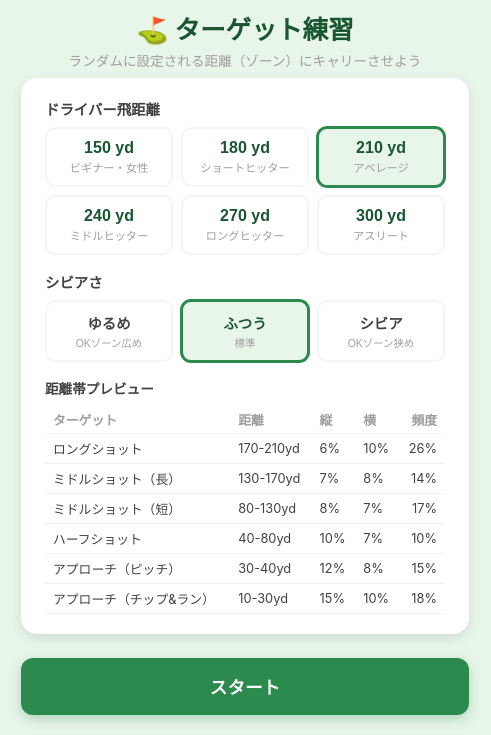
Test: App › スタートボタンを押すとターゲットカードが表示される
This screenshot has width=491, height=735.
Click the button with test id "next-button" at x=245, y=686, box [21, 658, 469, 715]
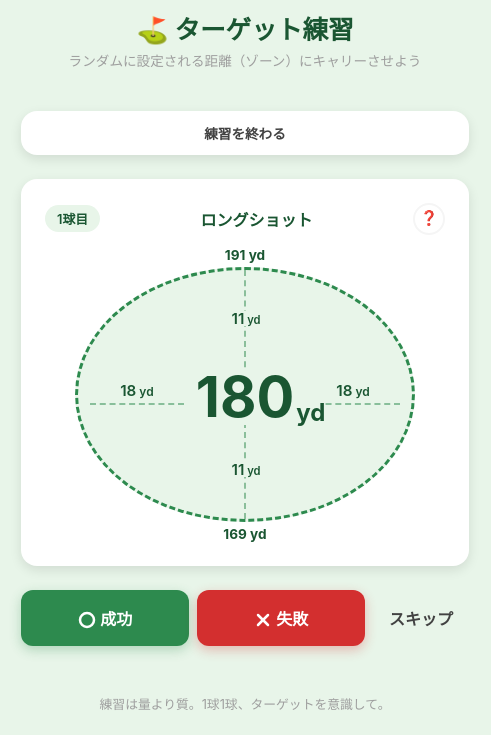
Result: the element with test id "target-card" is shown at [21, 178, 469, 566]
Result: the text "191 yd" is shown at [225, 246, 265, 262]
Result: the element with test id "target-width" is shown at [78, 366, 412, 422]
